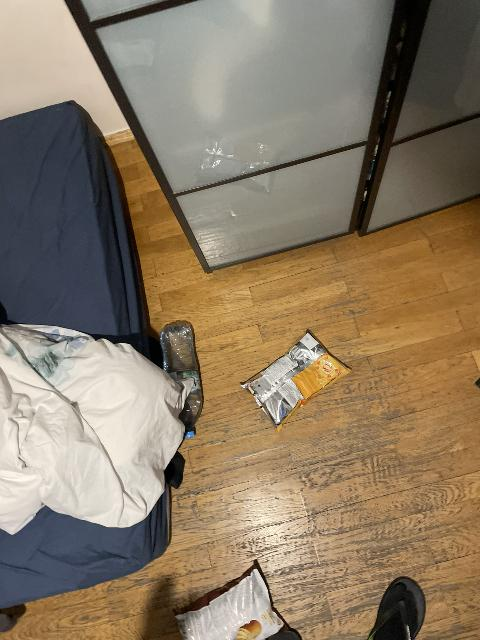Chio Hula Hoops Cheese 70g: (240, 330, 350, 432)
